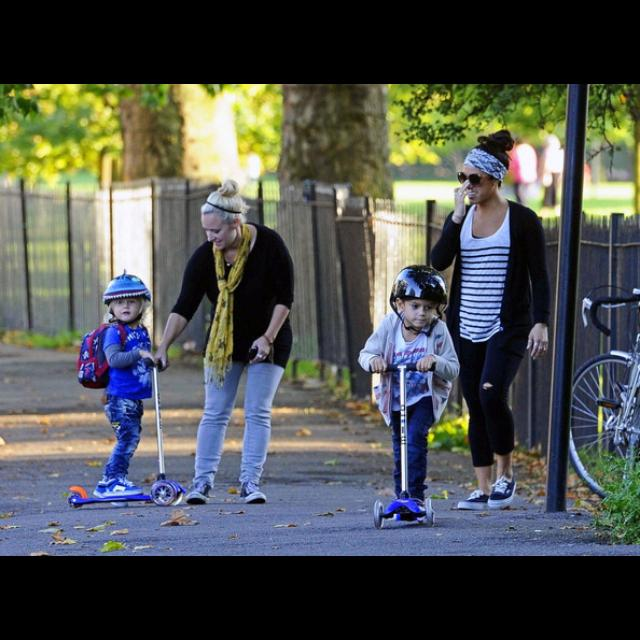With Helmet: (382, 260, 446, 334), (98, 264, 154, 324)
